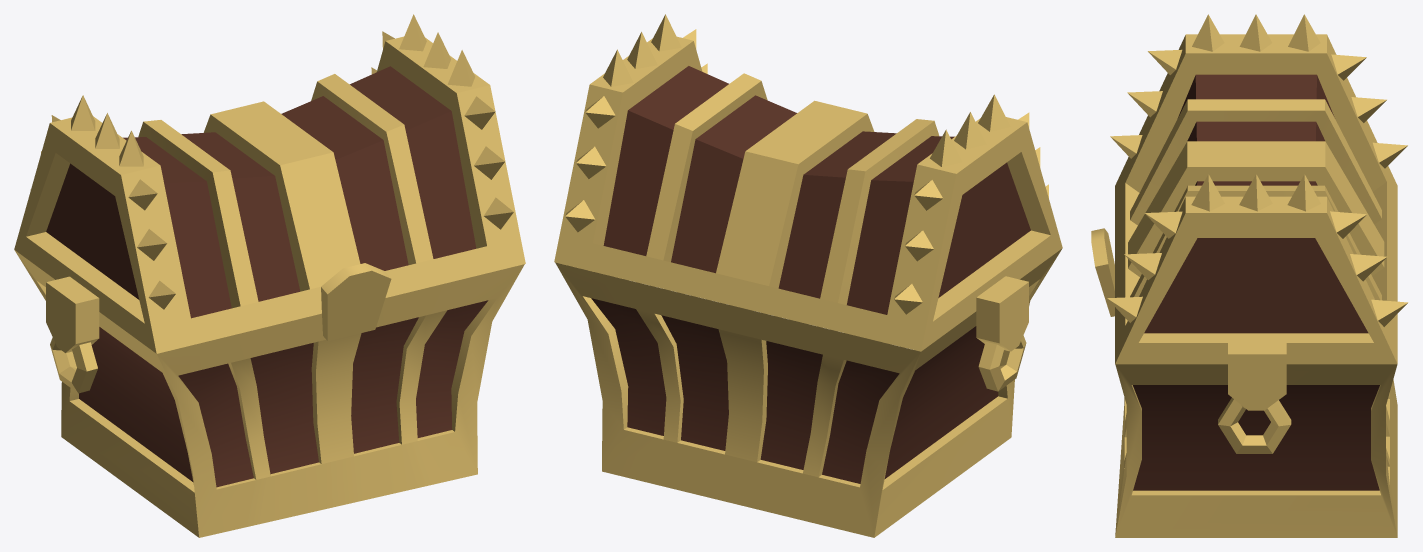
Rendered from gold_chest_closed.fbx.
3 renders of one model, left to right at view 1: azimuth 30°, elevation 25°; view 2: azimuth 150°, elevation 25°; view 3: azimuth 270°, elevation 25°, orthographic.
Visible parts, largest first — view 1: gold_chest_closed; view 2: gold_chest_closed; view 3: gold_chest_closed.
Part boxes in pixels (box(x1,y1,x2,y2)): gold_chest_closed: box(14, 14, 525, 537); gold_chest_closed: box(554, 14, 1062, 537); gold_chest_closed: box(1091, 14, 1408, 537).
Size of the model in its own units: 9.01 by 7.92 by 6.01.
